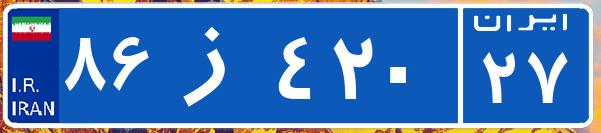0: (385, 28, 445, 110)
2: (330, 28, 385, 110), (475, 38, 525, 113)
4: (273, 28, 330, 110)
6: (110, 28, 158, 105)
7: (525, 38, 570, 115)
8: (57, 26, 110, 107)
ز: (158, 15, 273, 115)
